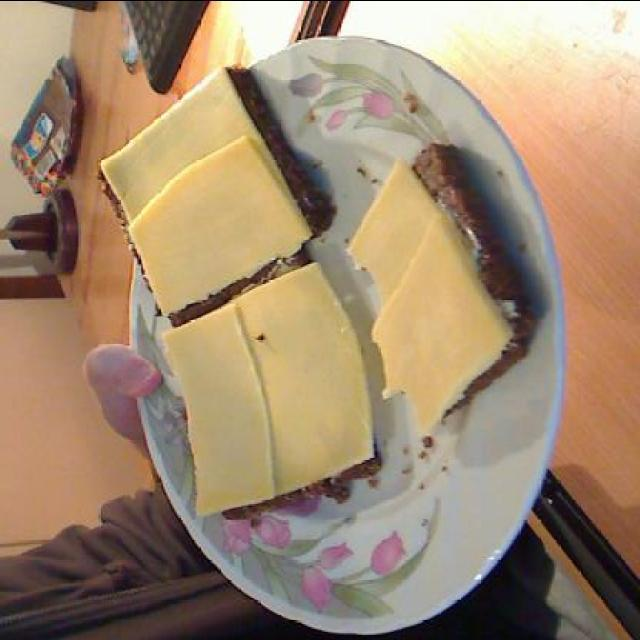Cheese: (96, 62, 310, 316), (224, 258, 372, 496), (122, 134, 310, 318), (364, 216, 513, 438), (162, 302, 270, 516), (343, 156, 465, 308)
